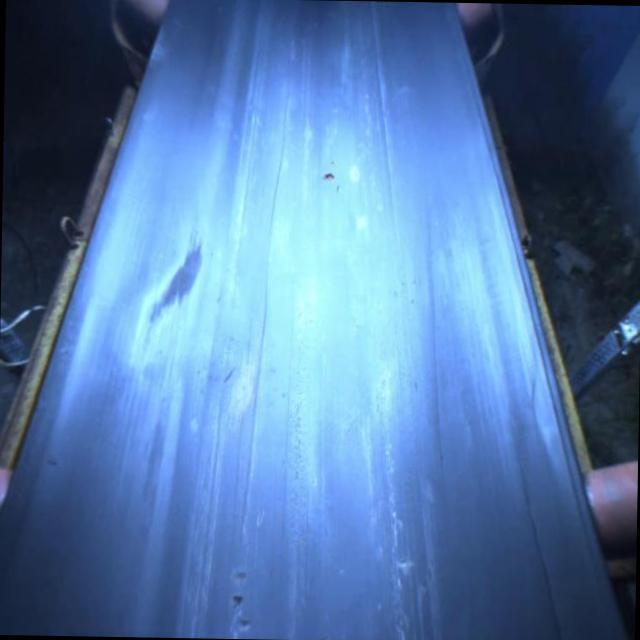Hole: (233, 616, 256, 632), (230, 567, 250, 585), (229, 592, 248, 608), (322, 171, 337, 186)
Puncture: (394, 555, 411, 571)
Tear: (232, 97, 300, 540)
Wear: (142, 228, 214, 338)
